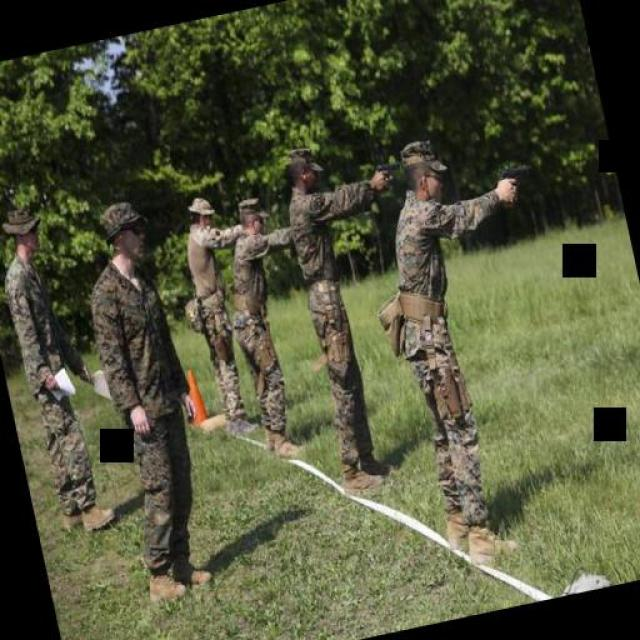gun: (492, 156, 536, 204), (370, 154, 404, 194)
